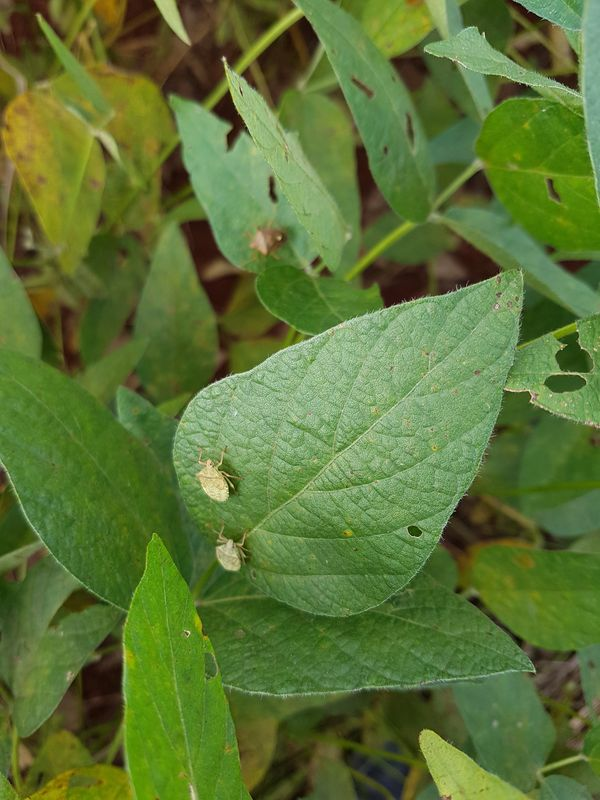Euschistus_heros_adulto: (241, 216, 298, 269)
Euschistus_heros_ninfa: (181, 439, 246, 511), (199, 522, 257, 583)
